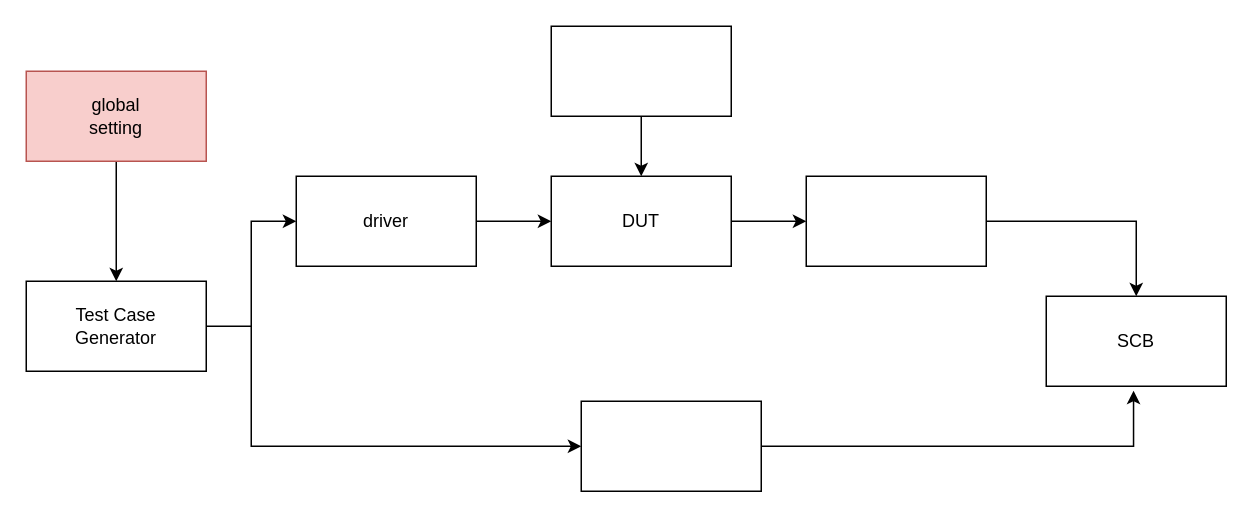
This 1253x518 diagram has some shape labels left out. Here are the shapes that lost their labels. From the top down, the centre of each, then its label:
At (x=640, y=70): "other VIP".
At (x=895, y=220): "Monitor".
At (x=670, y=445): "Ref Model".
